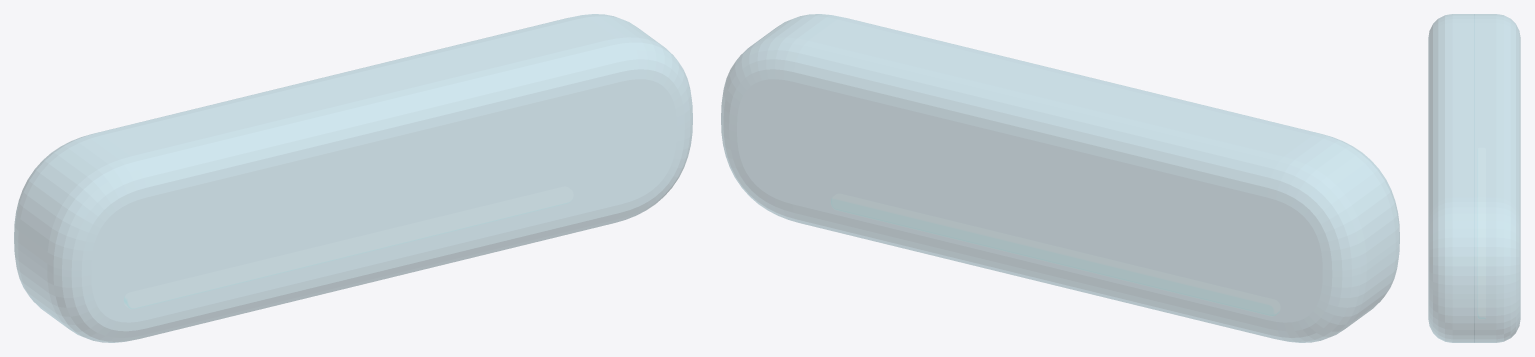
The picture shows the model from 3 angles, left to right: view 1: azimuth 30°, elevation 25°; view 2: azimuth 150°, elevation 25°; view 3: azimuth 270°, elevation 25°; orthographic projection. The views are drawn at different scales.
Parts seen in each view (by area): view 1: toast-body, underside-recess; view 2: toast-body, underside-recess; view 3: toast-body, underside-recess.
Boxes of the visible parts, box(x1,y1,x2,y2) form: toast-body: box(14, 14, 692, 342); underside-recess: box(124, 186, 573, 308); toast-body: box(721, 14, 1399, 342); underside-recess: box(831, 194, 1280, 316); toast-body: box(1428, 14, 1520, 342); underside-recess: box(1478, 148, 1485, 318).
Bounding box in the file's own units: 2.3 × 0.62 × 0.38.
